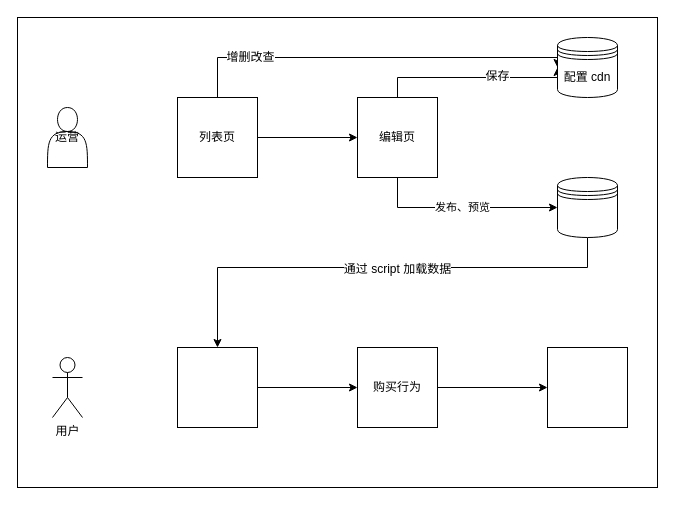
Some shapes in this 675 by 505 pixel diagram are drawn without their labels. Here are the shapes that lost their labels. From the top down, the centre of each, then its label:
At (587,207): "页面数据cdn".
At (217,387): "售前页".
At (587,387): "加群页".
